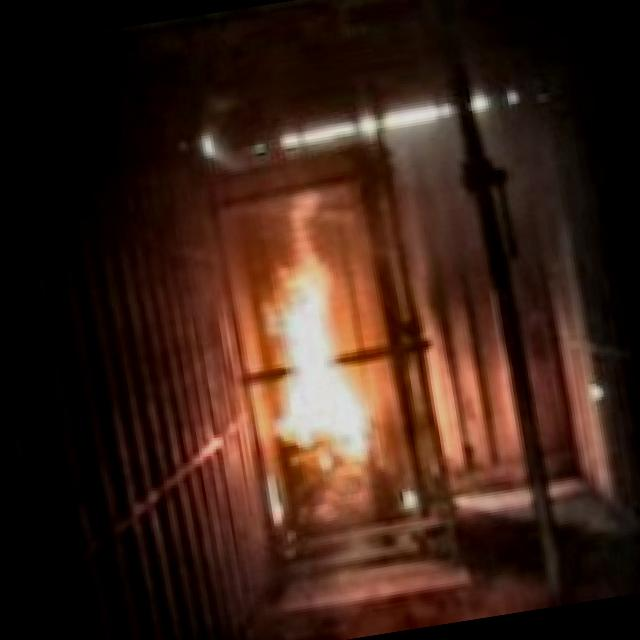fire: (244, 226, 377, 495)
